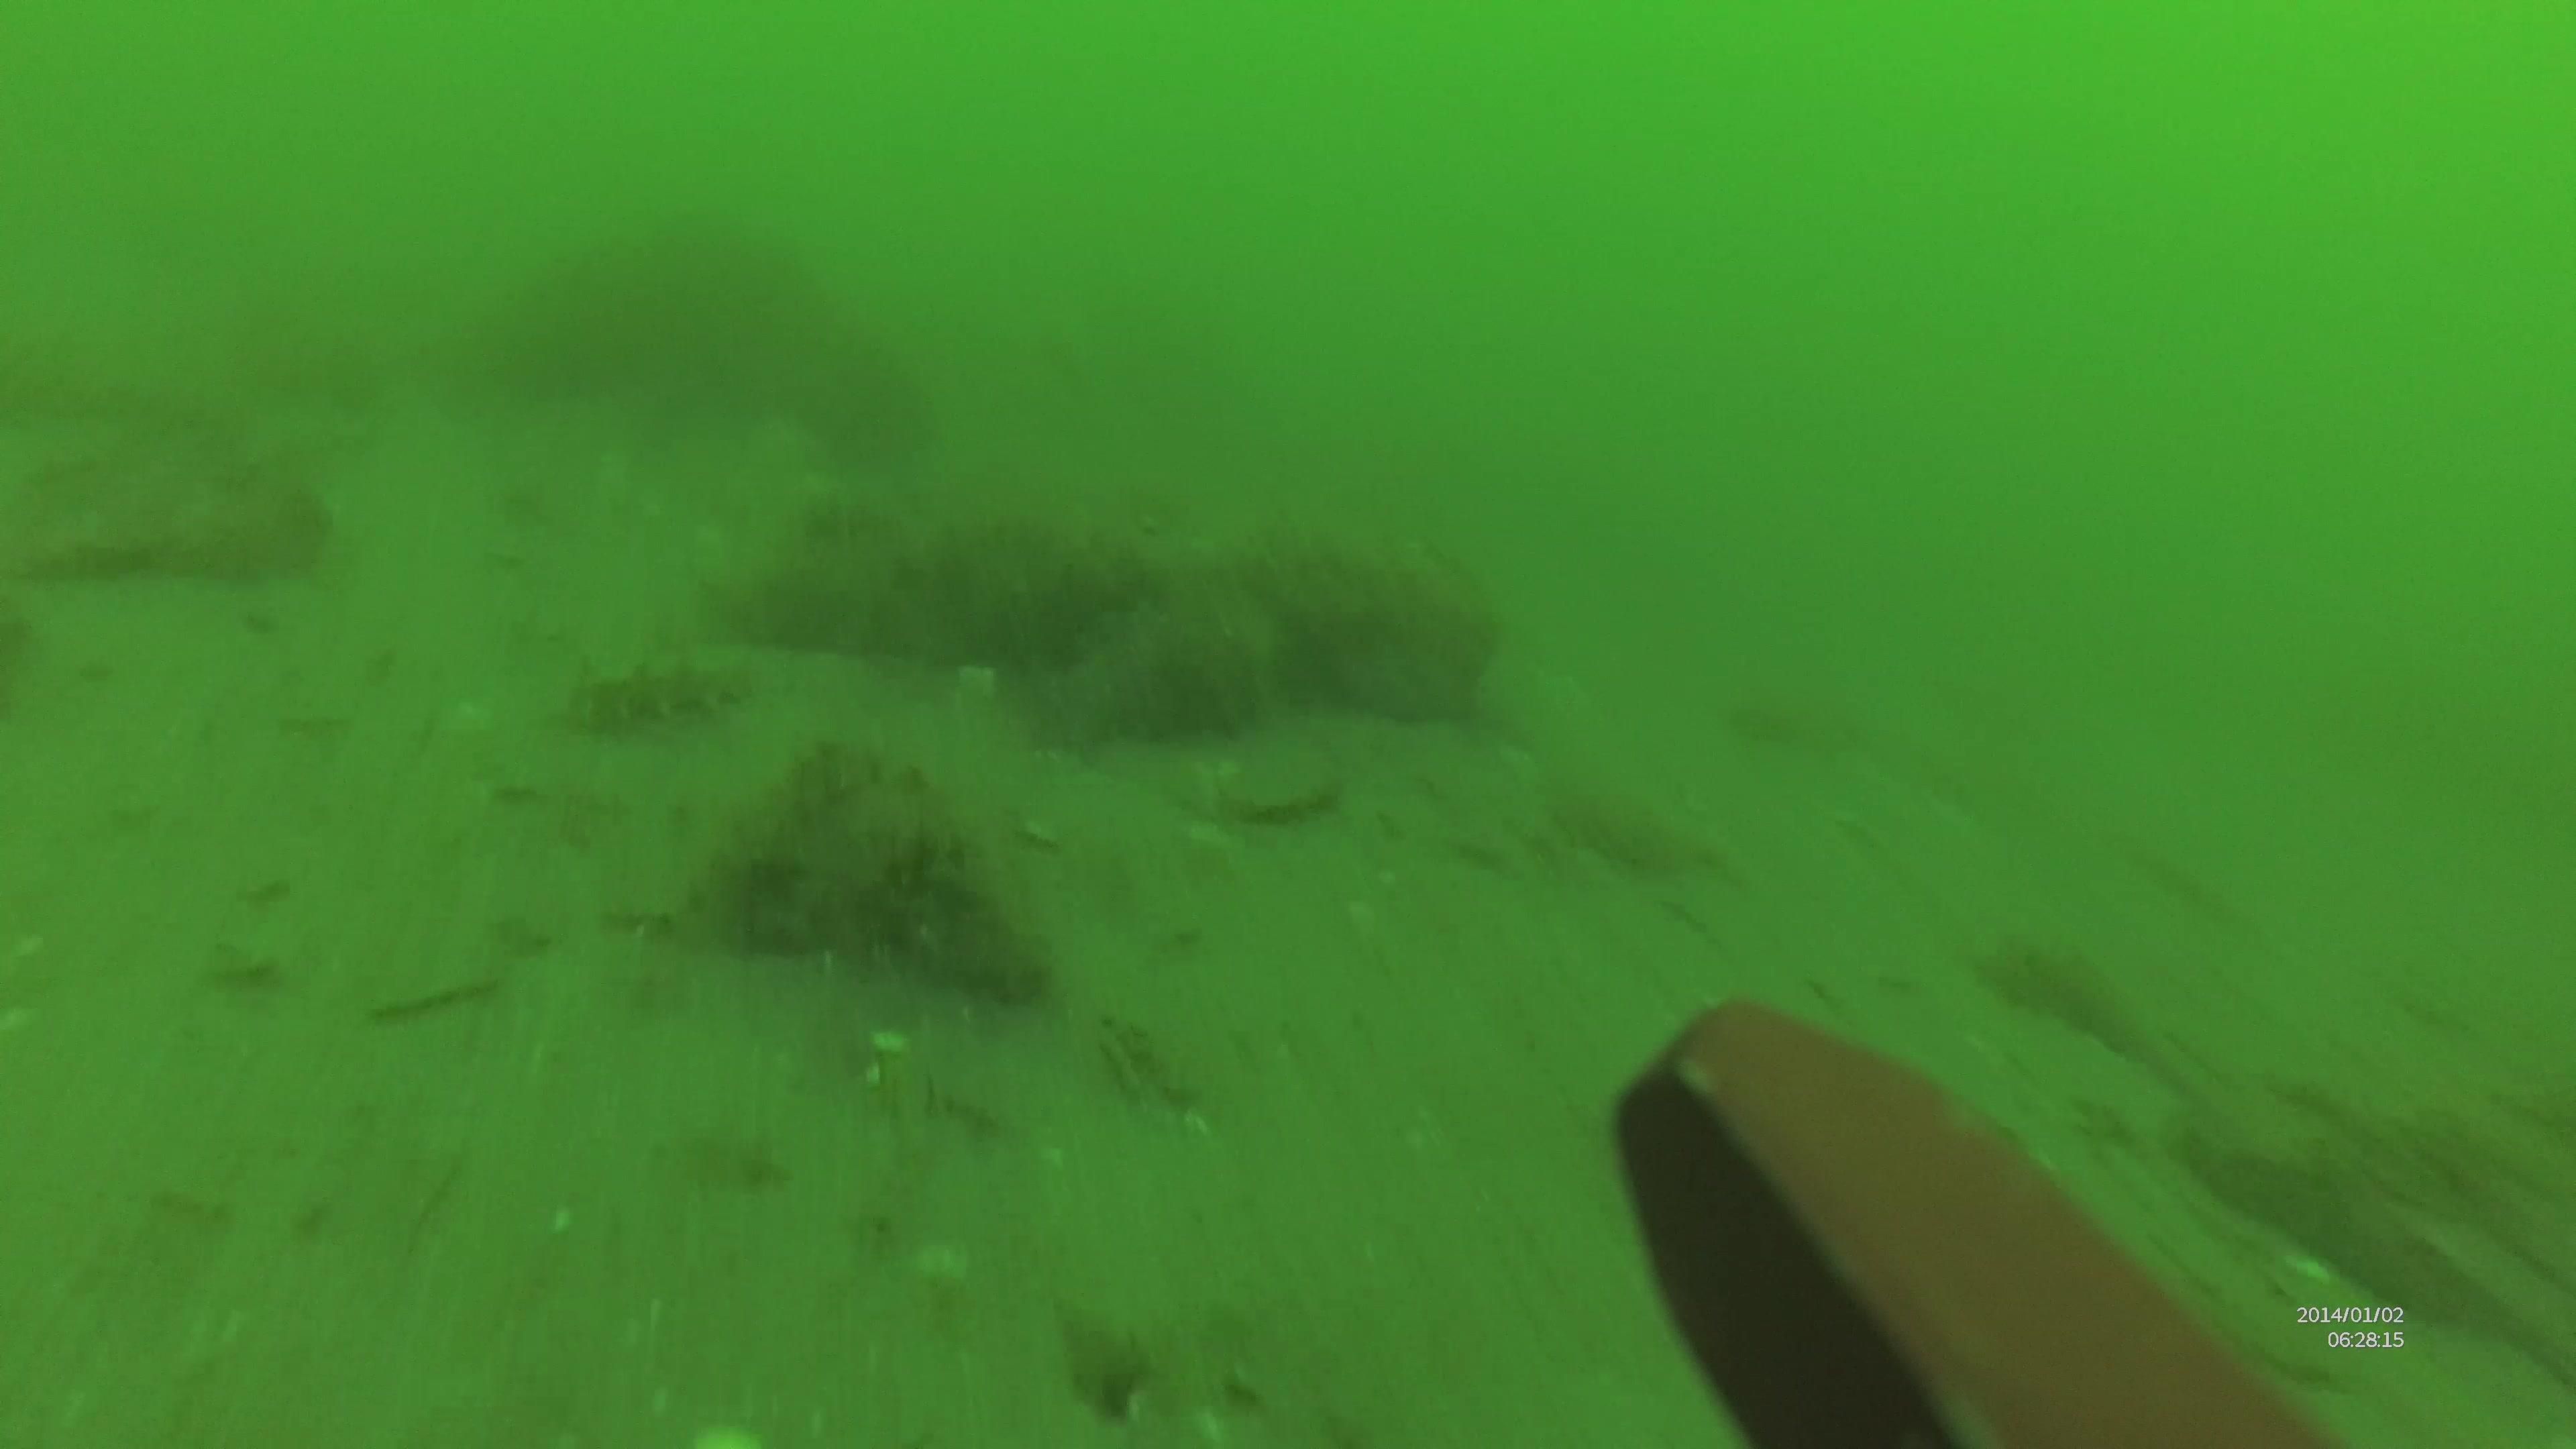holothurian: (563, 651, 757, 729)
